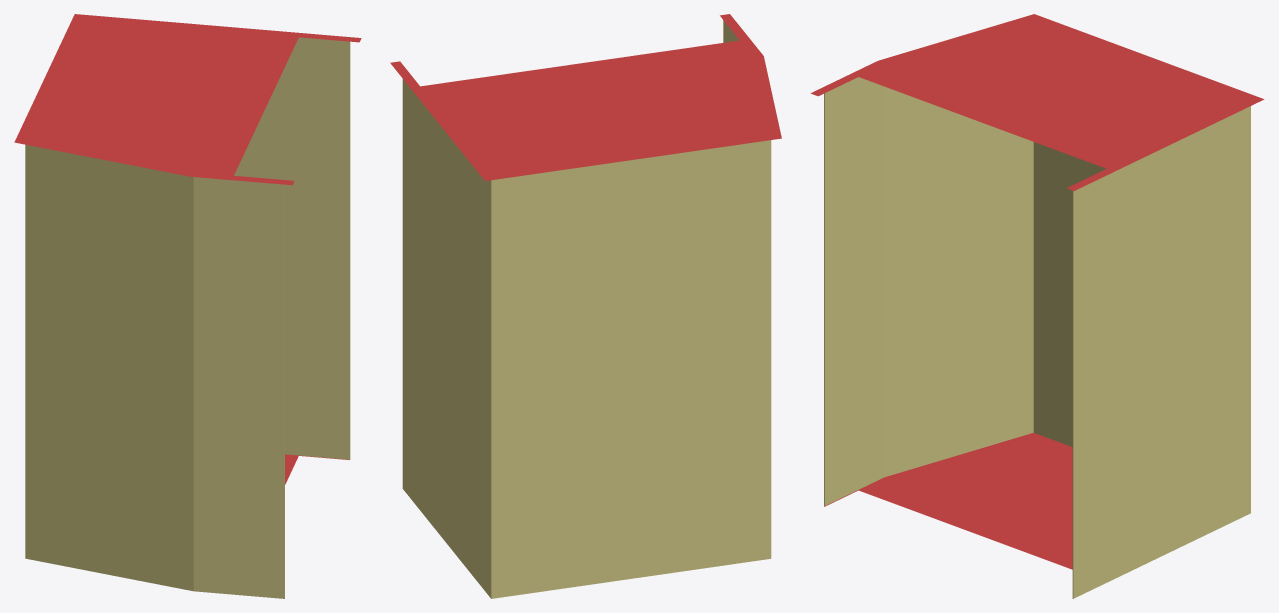
3 renders of one model, left to right at view 1: azimuth 30°, elevation 25°; view 2: azimuth 150°, elevation 25°; view 3: azimuth 270°, elevation 25°, orthographic. The views are drawn at different scales.
Size of the model in its own units: 10.88 by 11.79 by 11.84.
